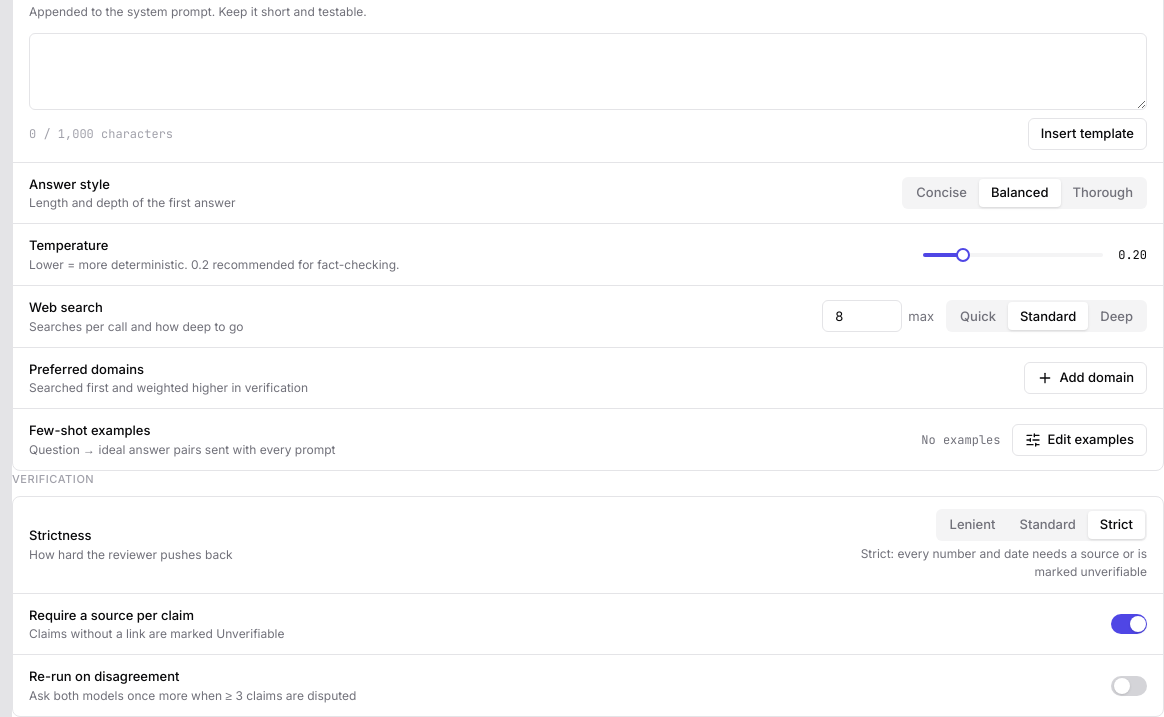
Test: ModelsView › binds a control to the settings state
(page scrolled)
Click the radio button labelled "Lenient" at [972, 524], box [938,510,1008,538]
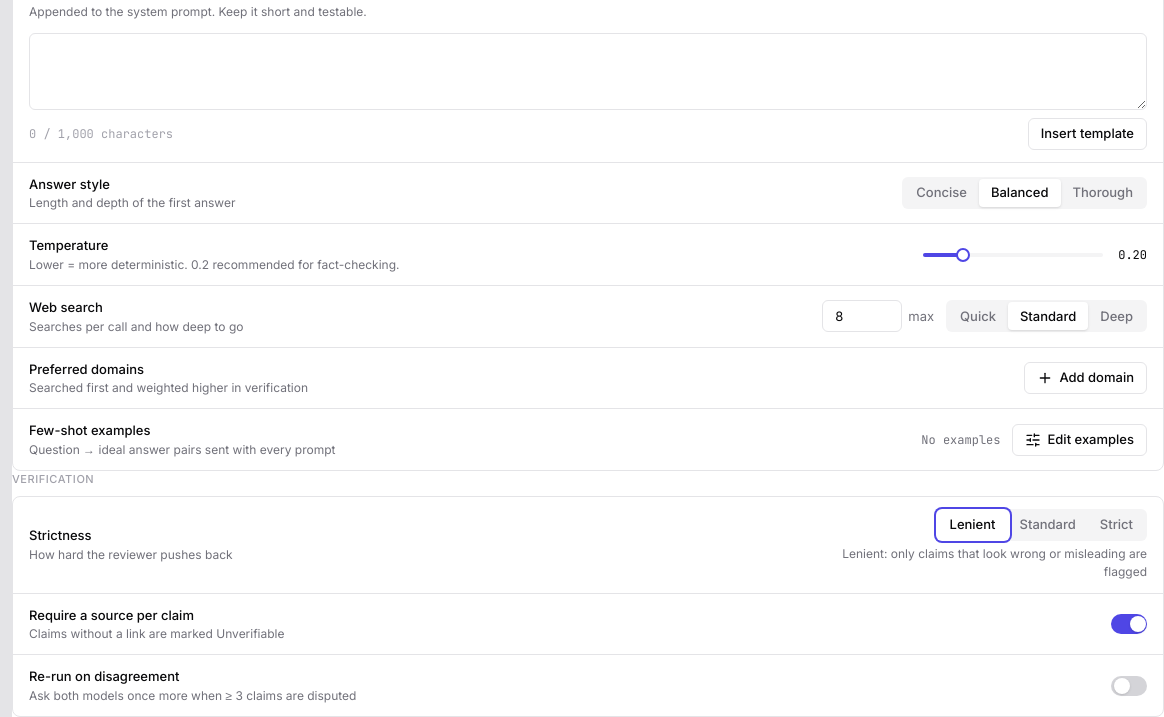
Expected: the radio button labelled "Lenient" is checked, [938,510,1008,538]
Expected: the text "Lenient: " is shown, [842,546,1147,578]
